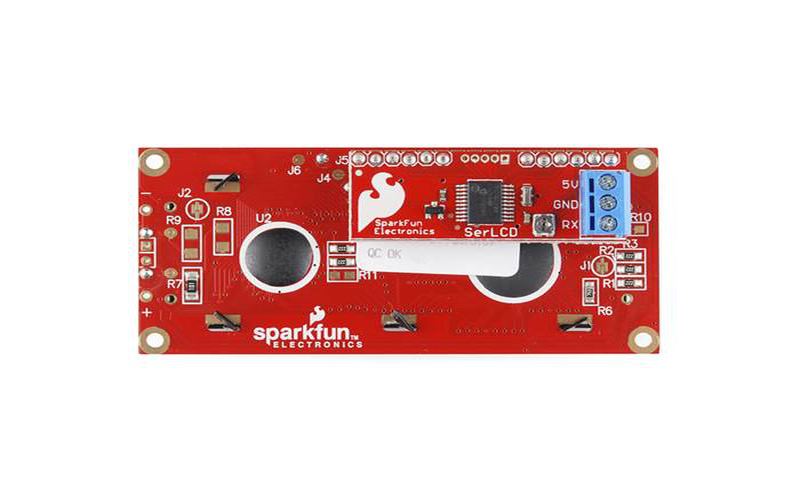Cirtuit-Board: (125, 120, 672, 380)
